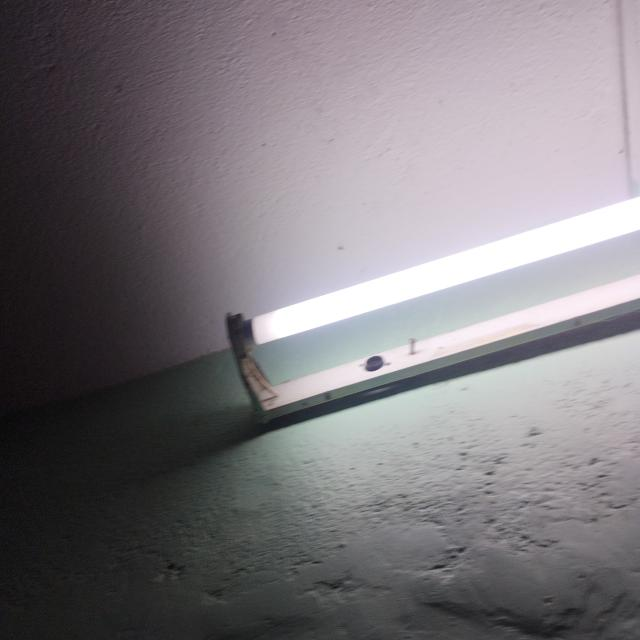tubelight_on: (215, 183, 640, 431)
